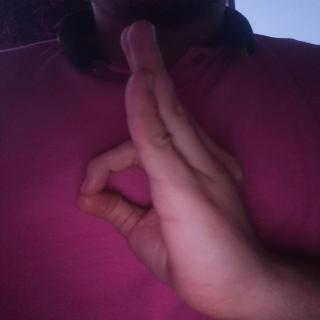Space: (76, 18, 264, 320)
